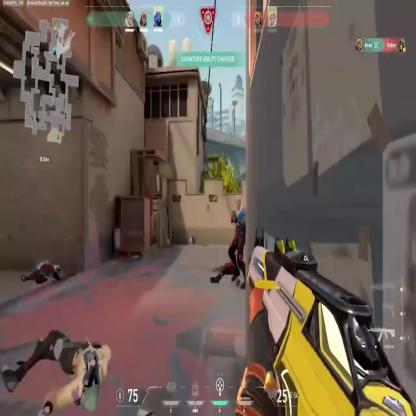enemy: (225, 192, 252, 292)
enemy_head: (235, 196, 242, 211)
